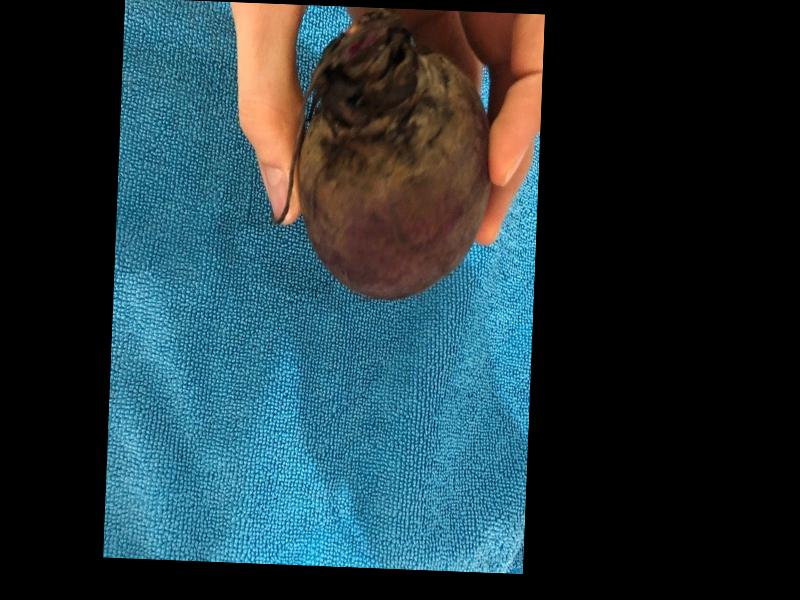Beet: (269, 9, 497, 303)
